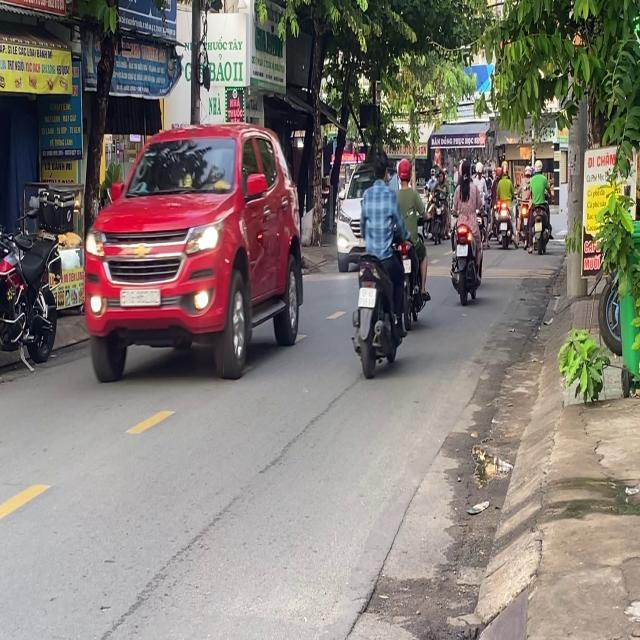helmet: (396, 156, 411, 184)
licenseplate: (350, 148, 407, 376), (394, 156, 430, 325)
motorcyclist: (372, 150, 389, 182)
nohelmet: (358, 287, 375, 306)
